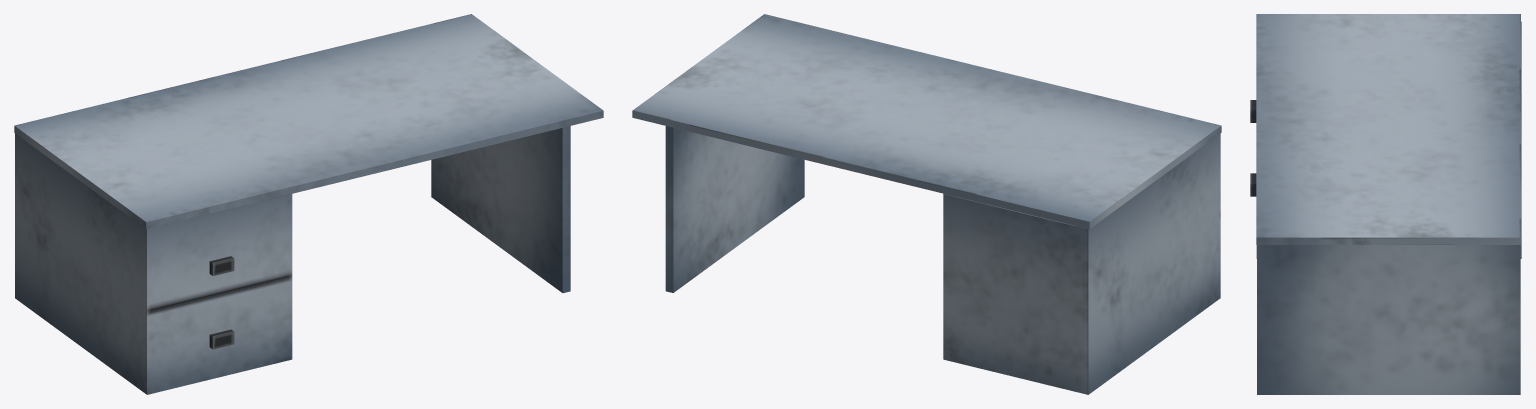
The model's file is table.FBX.
The picture shows the model from 3 angles, left to right: view 1: azimuth 30°, elevation 25°; view 2: azimuth 150°, elevation 25°; view 3: azimuth 270°, elevation 25°; orthographic projection.
Visible parts, largest first — view 1: table; view 2: table; view 3: table.
Part boxes in pixels (bbox=[...]): table: bbox=[14, 14, 603, 394]; table: bbox=[632, 14, 1221, 394]; table: bbox=[1250, 14, 1521, 394].
Bounding box in the file's own units: 80 × 28.92 × 40.98.
Materials: 1 (1 with a texture image).
